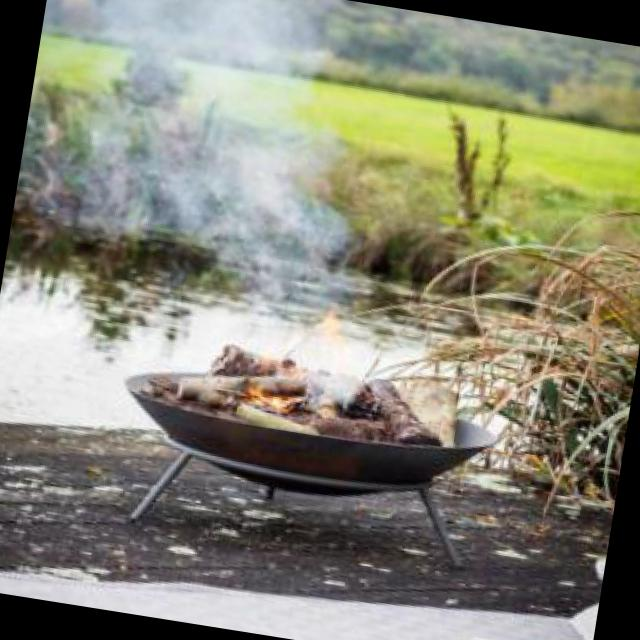fire: (228, 373, 298, 425)
smoke: (0, 0, 433, 389)
